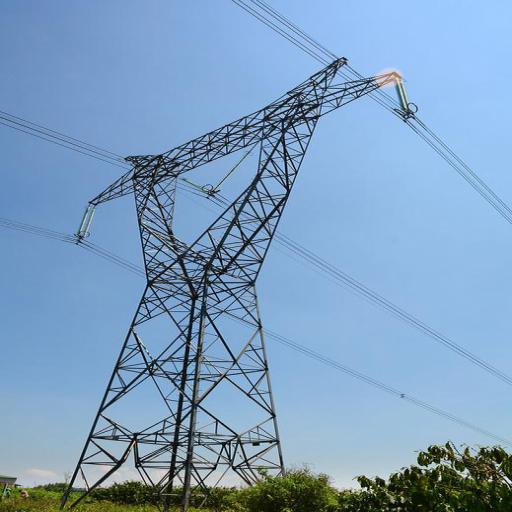wt_5: (71, 58, 404, 512)
